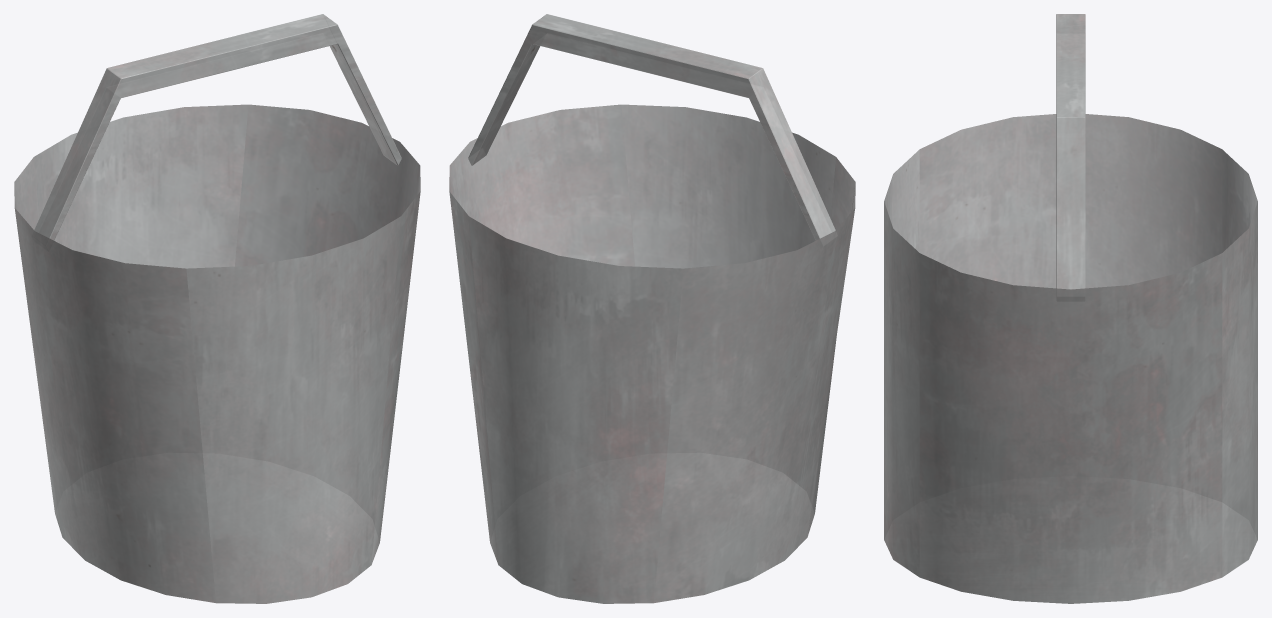
Rendered from Bucket.fbx.
The picture shows the model from 3 angles, left to right: view 1: azimuth 30°, elevation 25°; view 2: azimuth 150°, elevation 25°; view 3: azimuth 270°, elevation 25°; orthographic projection.
Visible parts, largest first — view 1: Bucket; view 2: Bucket; view 3: Bucket.
Boxes of the visible parts, x1,y1,x2,y2 form: Bucket: [14, 14, 420, 603]; Bucket: [449, 14, 855, 603]; Bucket: [884, 14, 1257, 603].
Size of the model in its own units: 1.12 by 1.41 by 1.
Materials: 1 (1 with a texture image).
